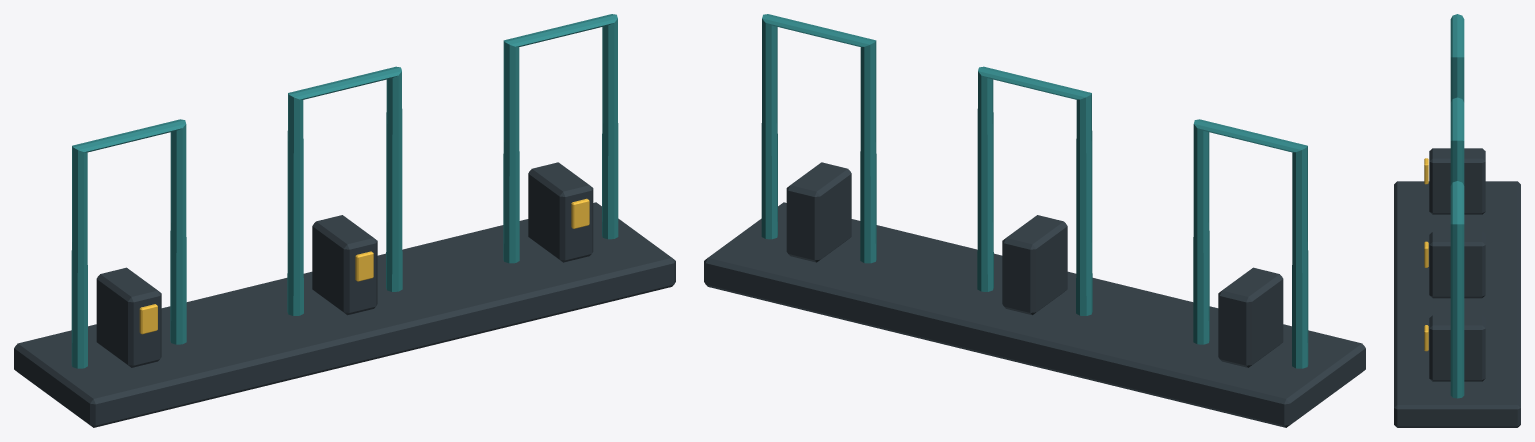
File: Scooter_Charging_Rack.glb
The picture shows the model from 3 angles, left to right: view 1: azimuth 30°, elevation 25°; view 2: azimuth 150°, elevation 25°; view 3: azimuth 270°, elevation 25°; orthographic projection. The views are drawn at different scales.
Visible parts, largest first — view 1: Scooter_Charging_Rack; view 2: Scooter_Charging_Rack; view 3: Scooter_Charging_Rack.
Part boxes in pixels (x1=…): Scooter_Charging_Rack: x1=14, y1=14, x2=675, y2=427; Scooter_Charging_Rack: x1=704, y1=14, x2=1365, y2=427; Scooter_Charging_Rack: x1=1394, y1=14, x2=1520, y2=427.
Bounding box in the file's own units: 1.9 × 0.7703 × 0.45.
